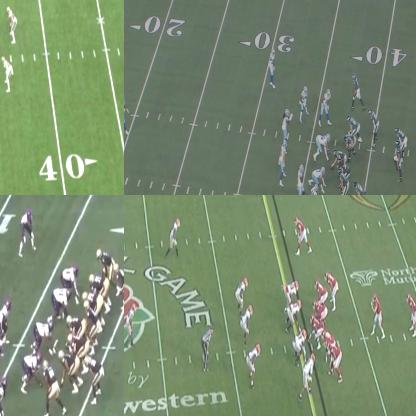CENTER: (64, 311, 88, 334), (309, 314, 322, 346), (330, 148, 344, 172)
DB: (19, 205, 34, 252), (126, 302, 137, 344), (168, 219, 180, 254), (269, 50, 278, 86), (301, 84, 310, 119), (0, 377, 7, 415), (124, 95, 127, 136)
LB: (245, 346, 260, 389), (240, 305, 253, 345), (1, 56, 12, 93), (237, 277, 248, 314), (0, 300, 10, 339), (7, 7, 17, 44), (278, 142, 286, 185), (282, 108, 292, 139), (297, 162, 305, 194)
QB: (82, 301, 100, 340), (372, 294, 382, 334), (395, 141, 404, 181)
SKILL: (44, 358, 63, 415), (84, 357, 103, 401), (302, 353, 315, 393), (97, 249, 114, 278), (326, 273, 338, 308), (295, 218, 306, 254), (406, 293, 415, 337), (353, 73, 364, 107), (368, 109, 378, 146), (115, 265, 123, 302), (394, 123, 404, 147), (355, 180, 364, 194)
